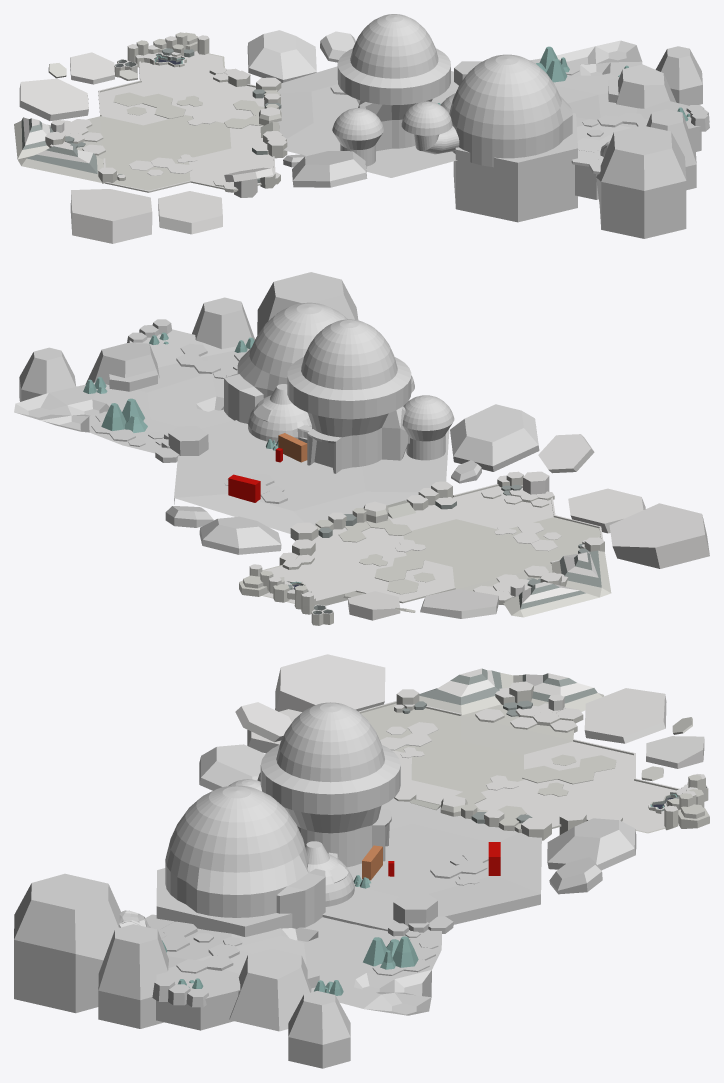
The model's file is Terrain_Terrafarming_V1.fbx.
3 renders of one model, top to bottom at view 1: azimuth 30°, elevation 25°; view 2: azimuth 150°, elevation 25°; view 3: azimuth 270°, elevation 25°, orthographic. The views are drawn at different scales.
Visible parts, largest first — view 1: Plantation, spacioport, Spacioportmap, Ressource, DEco01.002, Rocher02, Decosol01.003, rocher04, DEco01.004, Decosol01.001, Decosol02, Minerai.003 (+4 smaller); view 2: Plantation, spacioport, Spacioportmap, Ressource, DEco01.002, Rocher02, rocher04, Decosol01.003, Rocher01, Minerai.003, Rocher05, Decosol01.001 (+8 smaller); view 3: Ressource, spacioport, Plantation, Spacioportmap, DEco01.002, Rocher02, Rocher01, Decosol01.003, rocher04, Minerai.003, Decosol02, Decosol01 (+5 smaller).
Part boxes in pixels (x1,y1,x2,y2): Plantation: (19,51,275,243); spacioport: (332,14,572,167); Spacioportmap: (247,30,577,222); Ressource: (530,40,702,238); DEco01.002: (14,116,280,197); Rocher02: (114,32,209,77); Decosol01.003: (113,92,202,118); rocher04: (252,77,281,125); DEco01.004: (571,135,612,174); Decosol01.001: (129,154,197,175); Decosol02: (582,112,648,136); Minerai.003: (536,46,569,82); Plantation: (262,434,709,620); spacioport: (224,302,454,473); Spacioportmap: (165,370,539,554); Ressource: (14,272,358,453); DEco01.002: (458,471,611,617); Rocher02: (239,564,333,625); rocher04: (290,501,388,540); Decosol01.003: (359,554,435,594); Rocher01: (155,426,208,462); Minerai.003: (101,398,147,432); Rocher05: (406,481,456,510); Decosol01.001: (494,522,561,551); Ressource: (14,873,441,1068); spacioport: (165,702,400,928); Plantation: (235,654,704,833); Spacioportmap: (156,744,636,936); DEco01.002: (419,668,603,740); Rocher02: (648,774,709,830); Rocher01: (388,893,453,937); Decosol01.003: (522,754,616,796); rocher04: (440,795,551,840); Minerai.003: (363,936,418,969); Decosol02: (176,933,242,973); Decosol01: (430,849,488,885).
Bounding box in the file's own units: 2195 × 554 × 1703.
